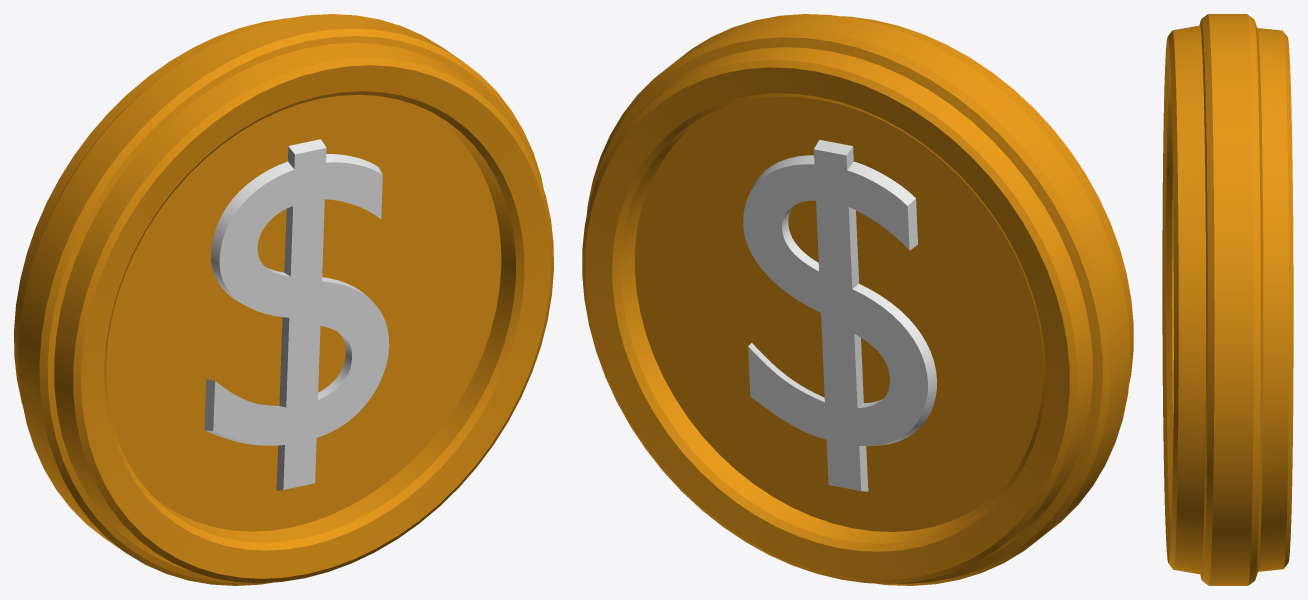
The model's file is coin.fbx.
3 views of the same model, side by side, from view 1: azimuth 30°, elevation 25°; view 2: azimuth 150°, elevation 25°; view 3: azimuth 270°, elevation 25° (orthographic). The views are drawn at different scales.
Visible parts, largest first — view 1: Coin; view 2: Coin; view 3: Coin.
Boxes of the visible parts, x1=… form: Coin: x1=14, y1=14, x2=553, y2=585; Coin: x1=582, y1=14, x2=1133, y2=585; Coin: x1=1162, y1=14, x2=1293, y2=585.
Size of the model in its own units: 1.98 by 1.98 by 0.4538.
